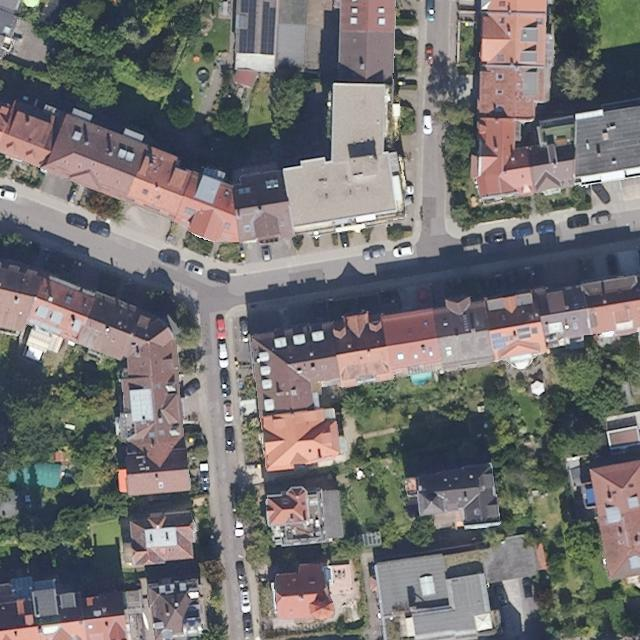PV: (238, 0, 256, 52), (260, 0, 275, 54), (491, 333, 511, 349), (517, 326, 531, 338)
